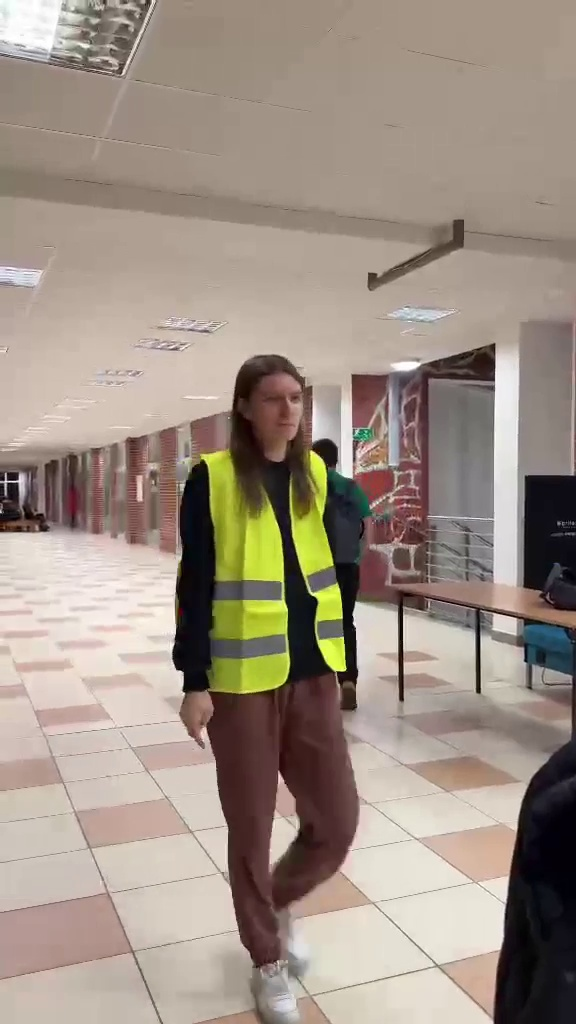vest: (166, 350, 368, 971)
